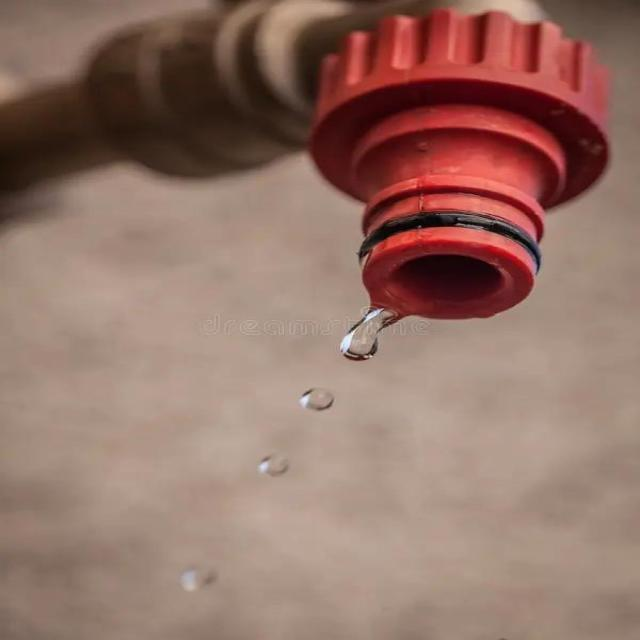water drop: (342, 298, 405, 359), (181, 559, 214, 593), (296, 387, 334, 413), (259, 450, 289, 480)
